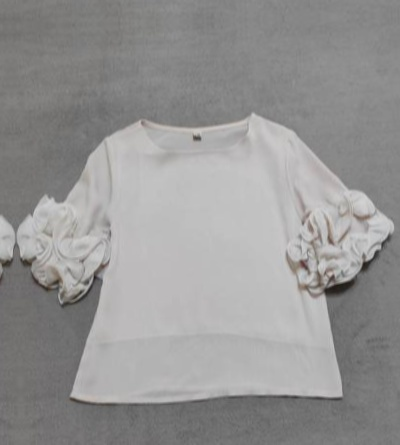Blouse: (17, 91, 399, 427), (0, 102, 16, 439)
